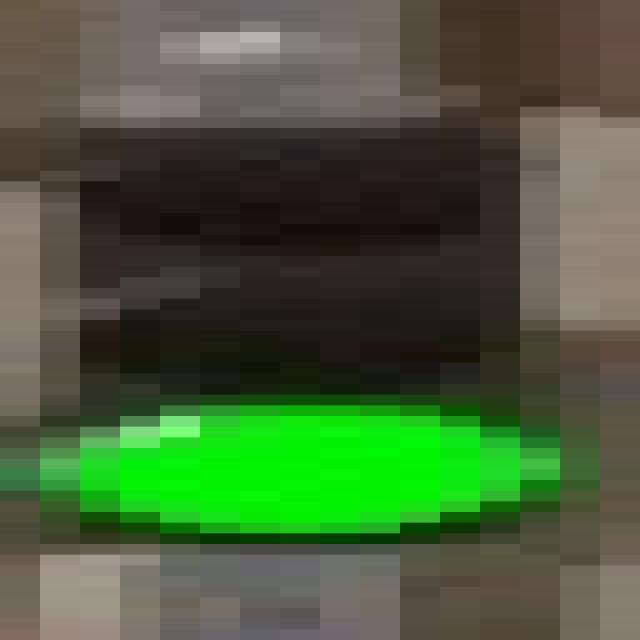green_light: (0, 95, 630, 593)
